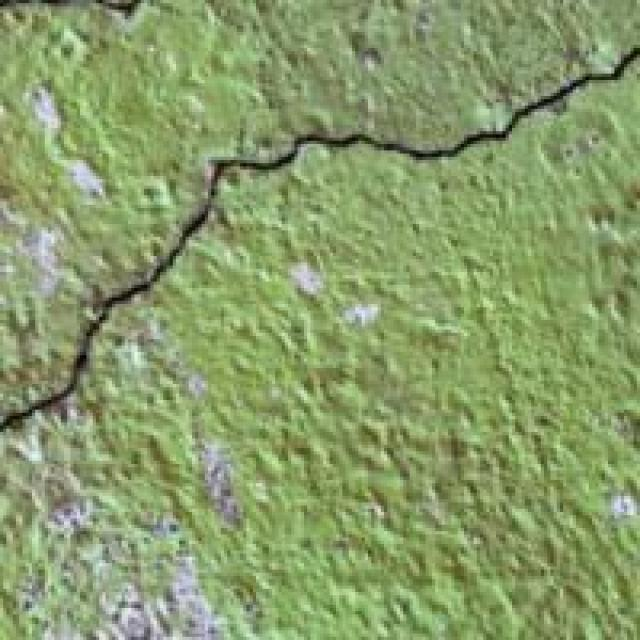crack: (0, 42, 637, 506)
